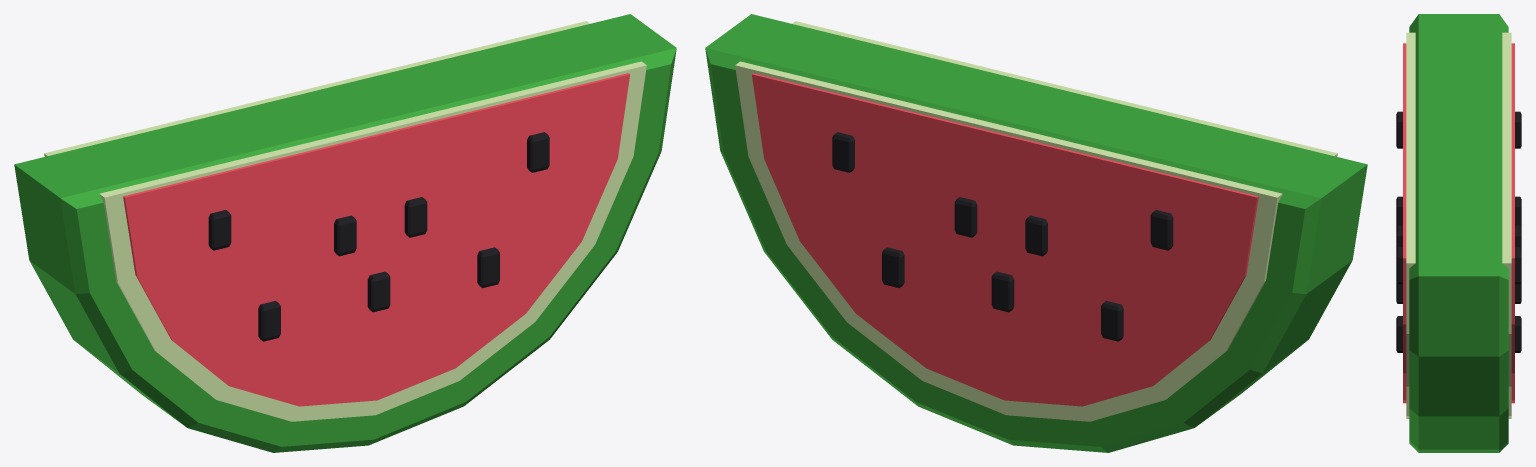
File: WatermelonSlice.fbx
3 views of the same model, side by side, from view 1: azimuth 30°, elevation 25°; view 2: azimuth 150°, elevation 25°; view 3: azimuth 270°, elevation 25° (orthographic). The views are drawn at different scales.
Parts seen in each view (by area): view 1: WatermelonSlice; view 2: WatermelonSlice; view 3: WatermelonSlice.
Part boxes in pixels (x1=…): WatermelonSlice: x1=14, y1=14, x2=676, y2=452; WatermelonSlice: x1=705, y1=14, x2=1367, y2=452; WatermelonSlice: x1=1396, y1=14, x2=1521, y2=452.
Size of the model in its own units: 2 by 1 by 0.405.
1 material, 1 textured.
